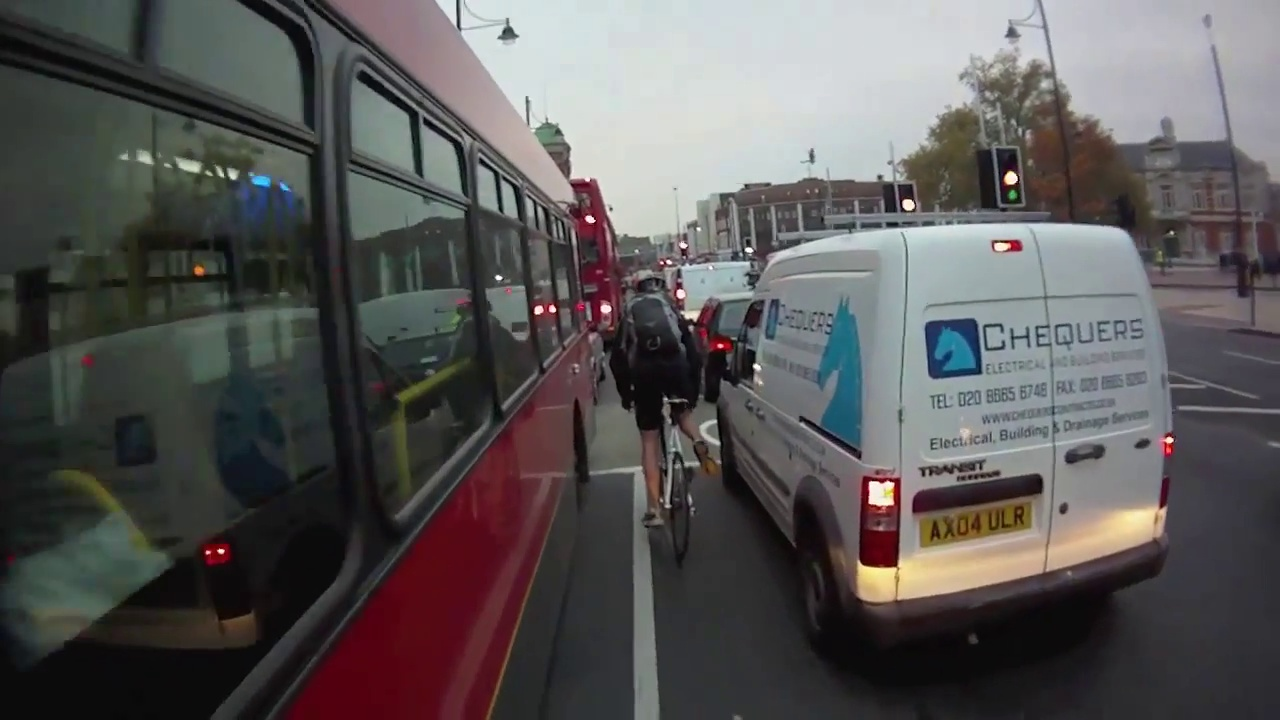cyclist_back: (615, 262, 715, 559)
